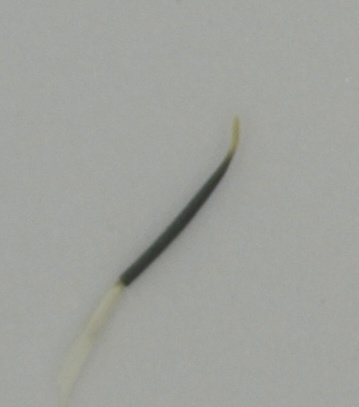เมล็ดดีเรียวยาว: (66, 112, 252, 387)
